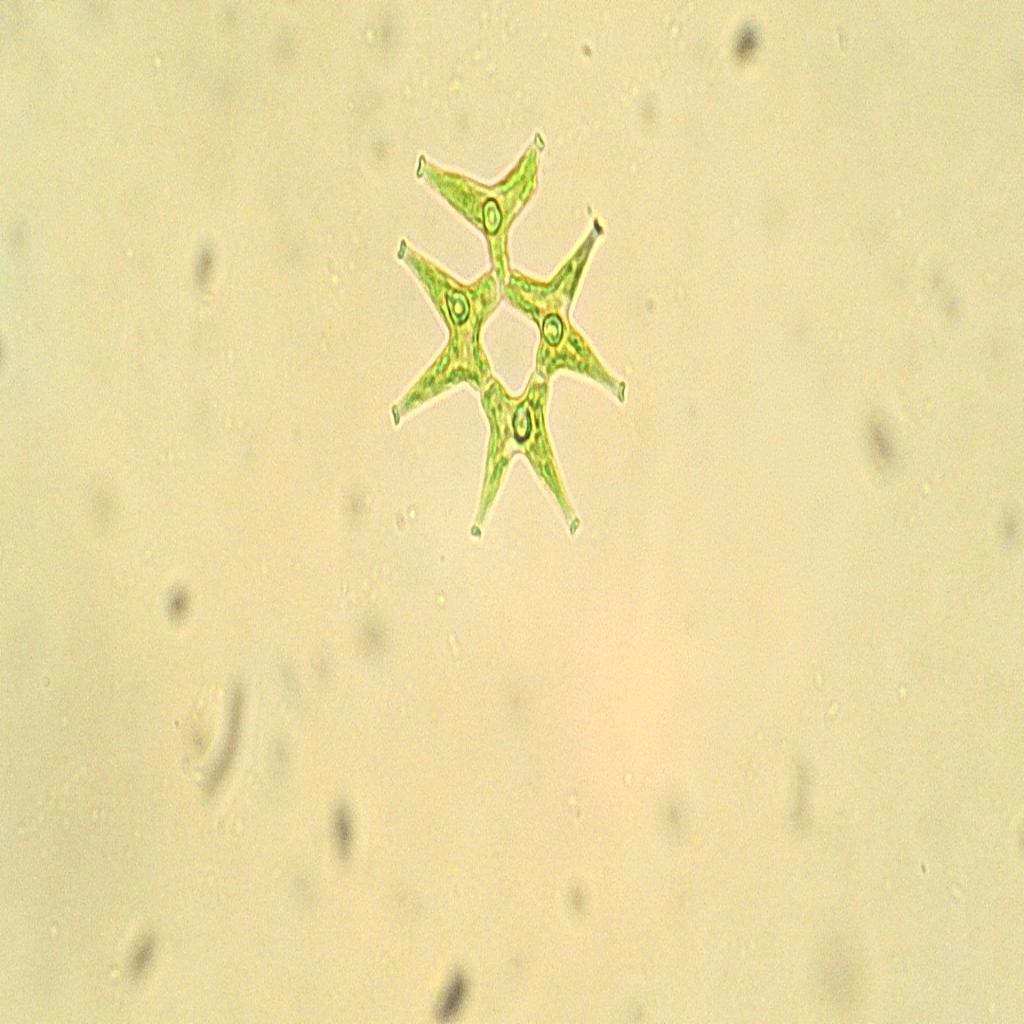Pediastrum_75FI: (358, 108, 648, 560)
